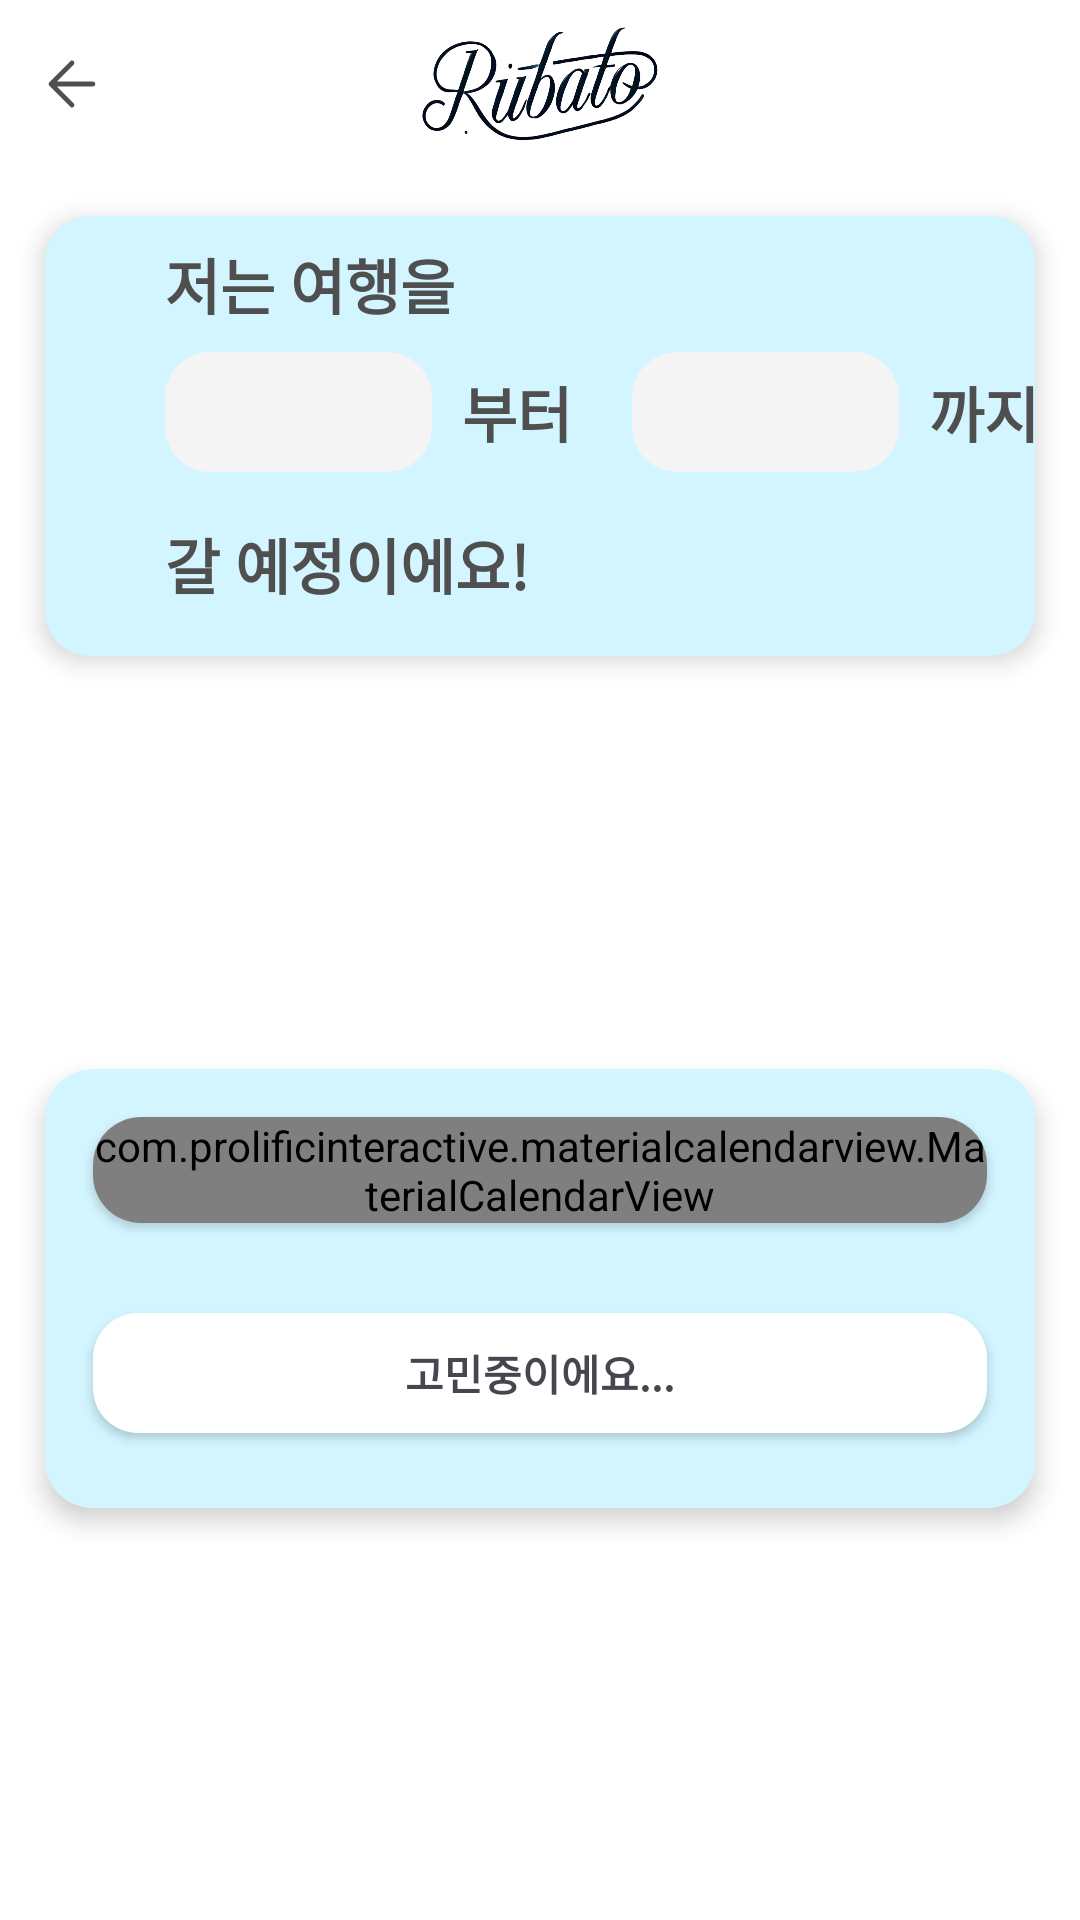

Screen size 1080*1920. Icon name, then its center in pixels as [x,y]:
back arrow: [72,84]
